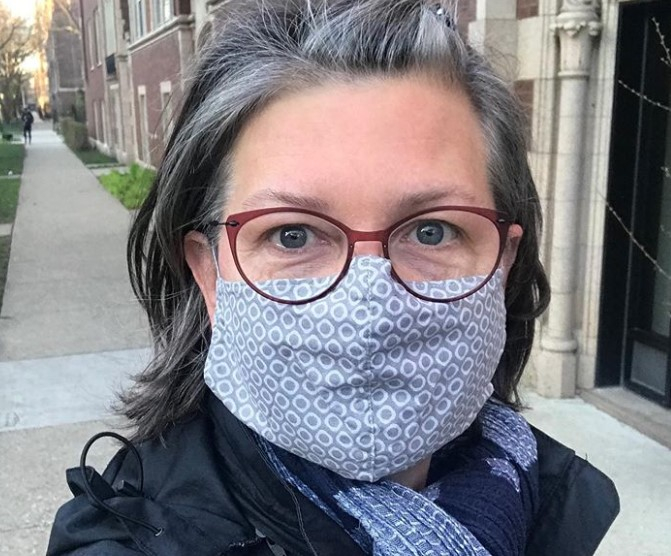face_with_mask: (175, 42, 524, 485)
